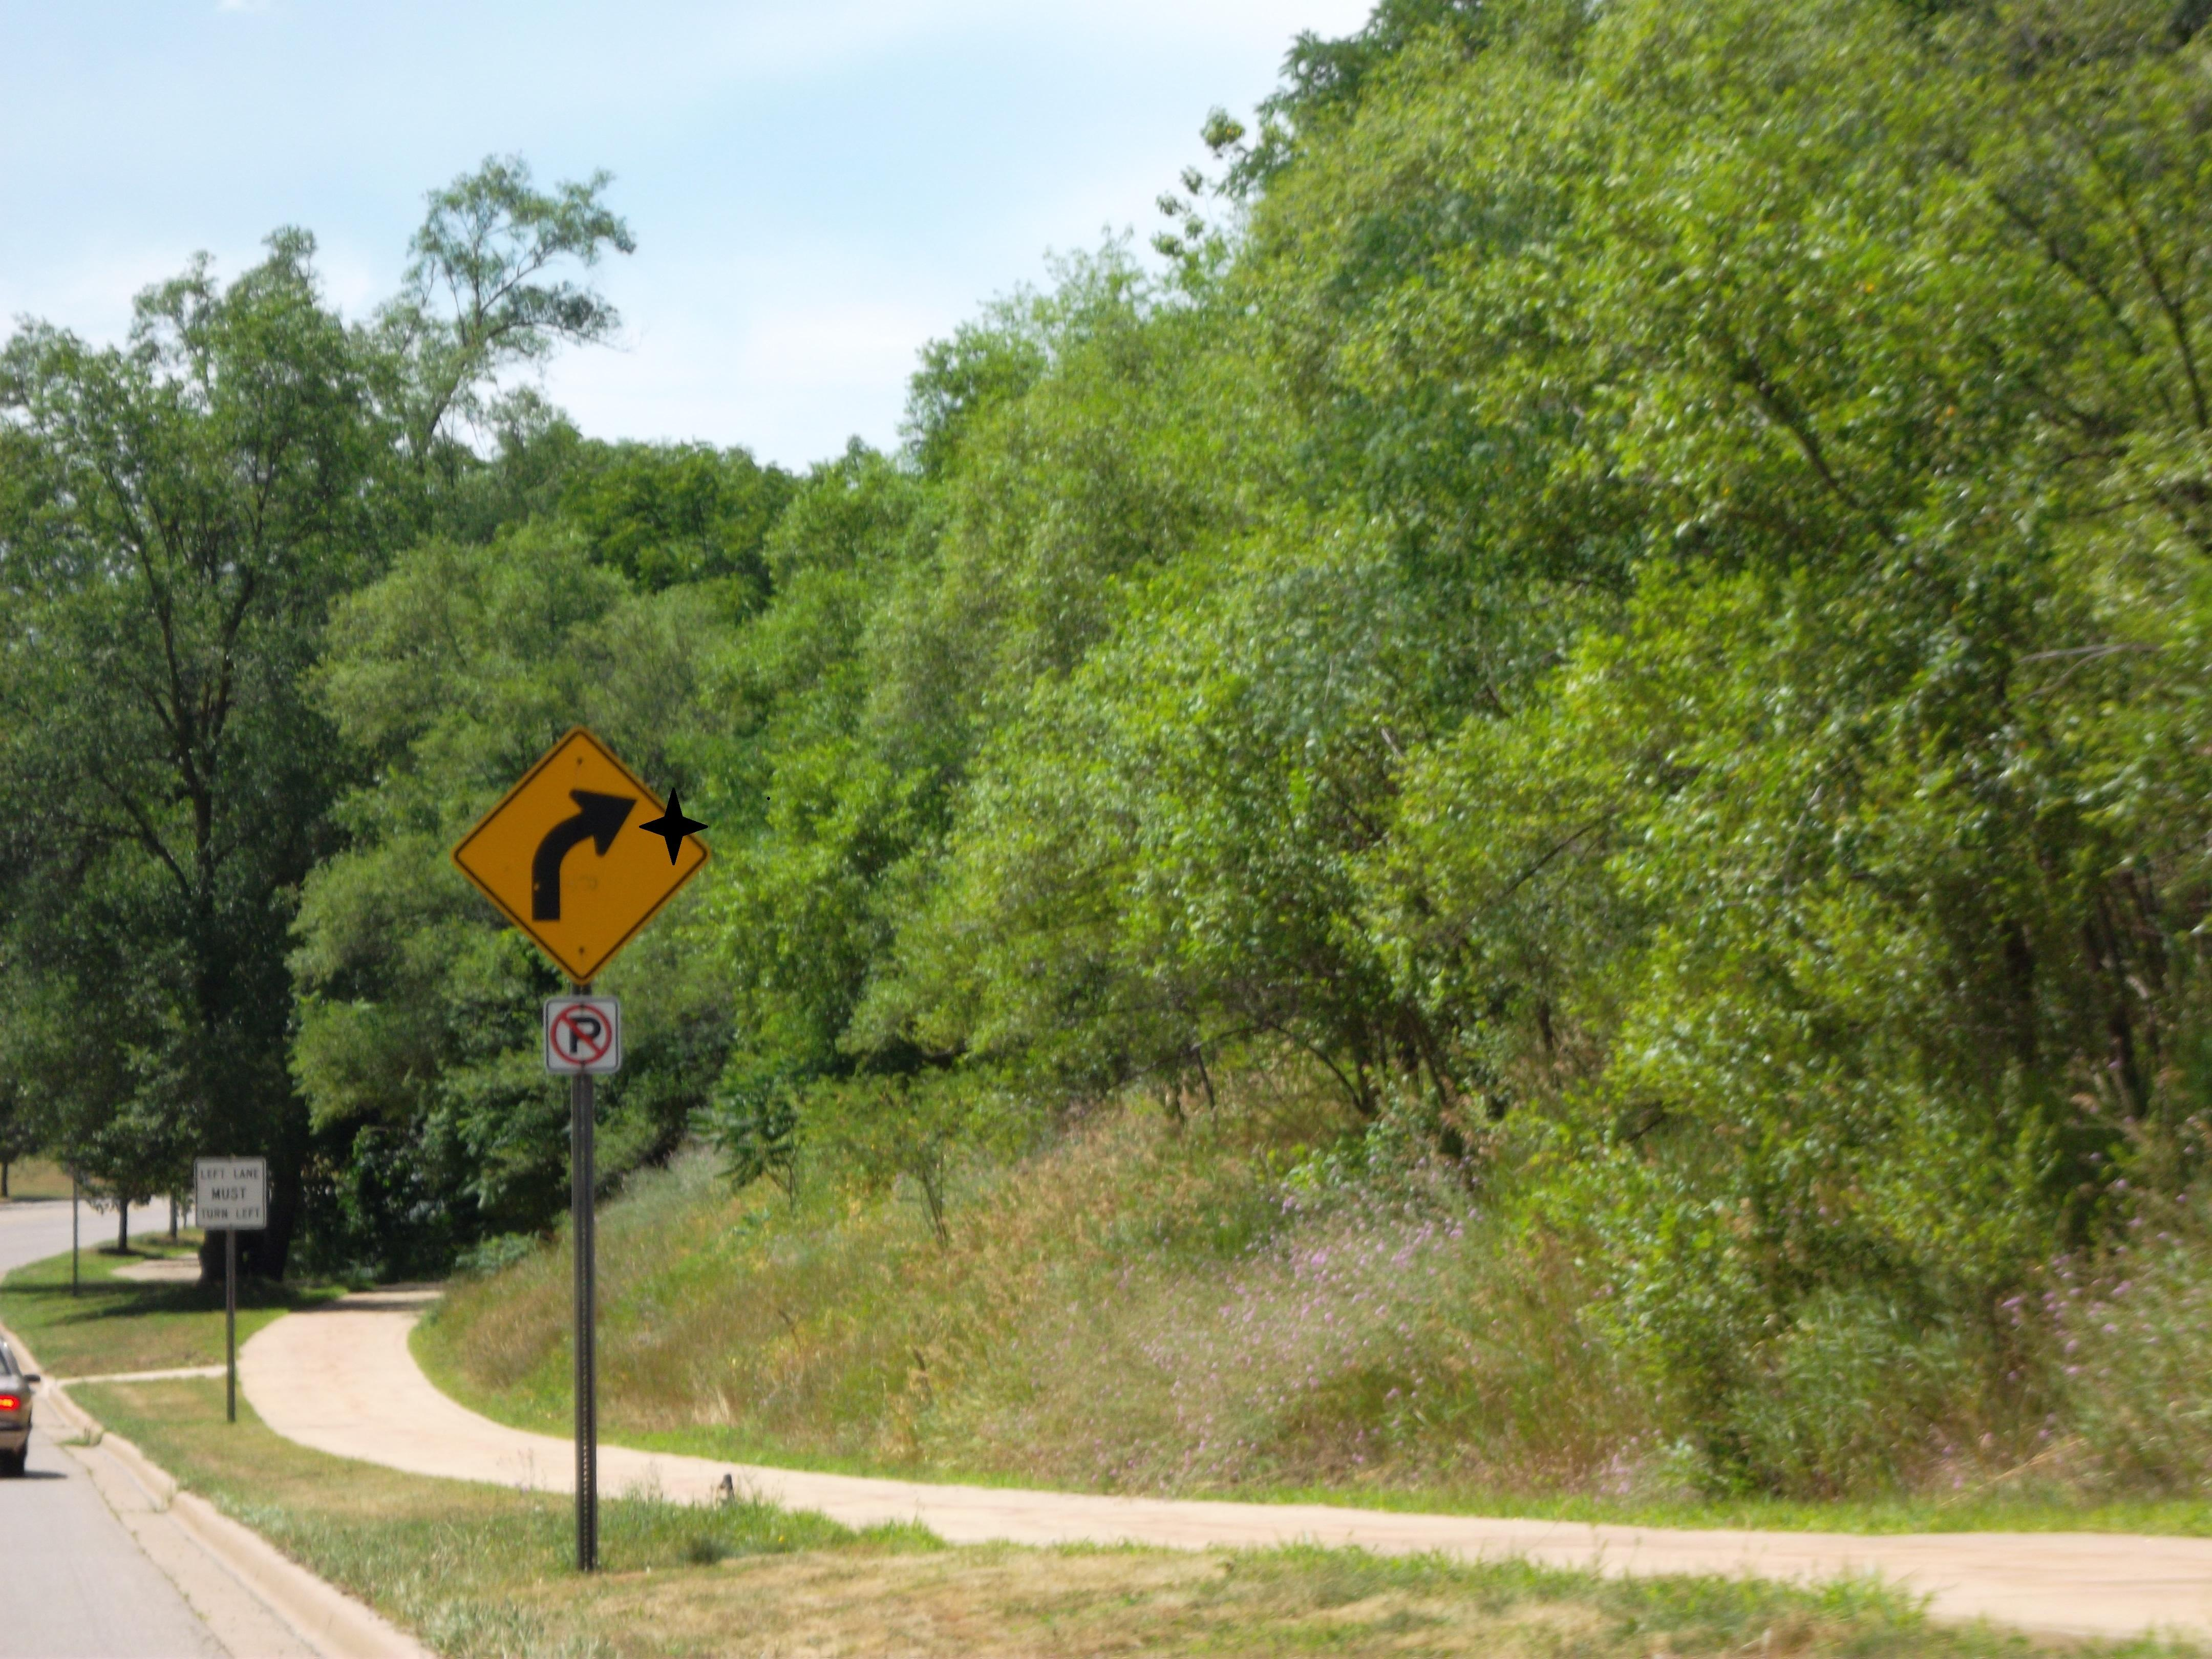regulatory: (536, 993, 629, 1089), (192, 1152, 272, 1241)
warning: (448, 714, 718, 992)
